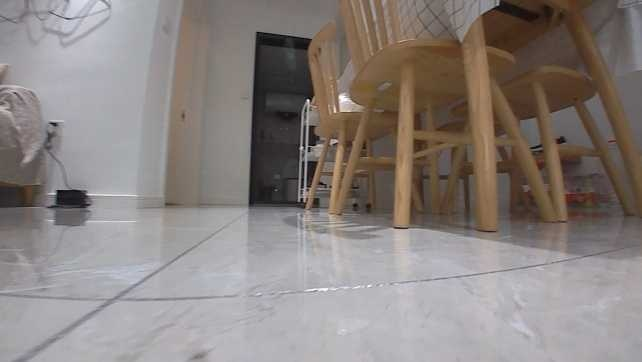charger: (40, 189, 91, 210)
dining_table: (304, 0, 641, 233)
toilet: (279, 153, 301, 200)
wire: (43, 118, 85, 189)
